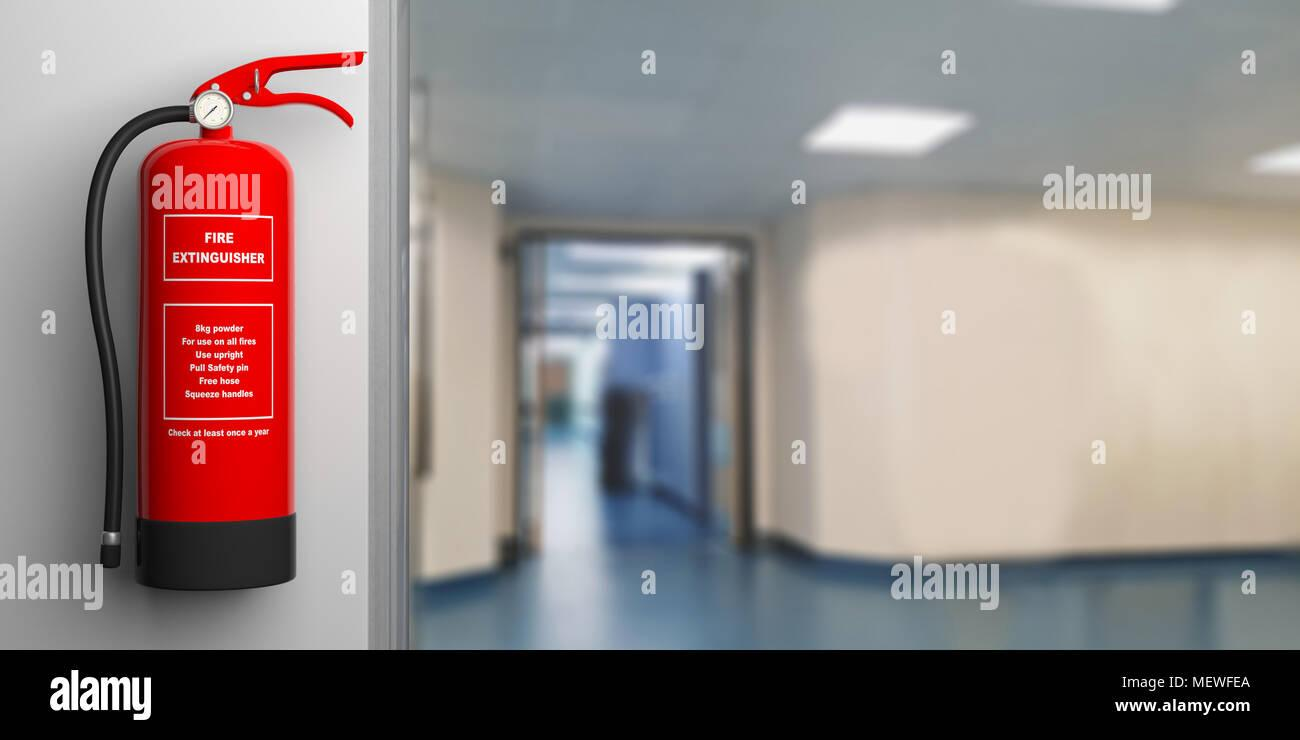wall-mounted: (36, 48, 381, 597)
